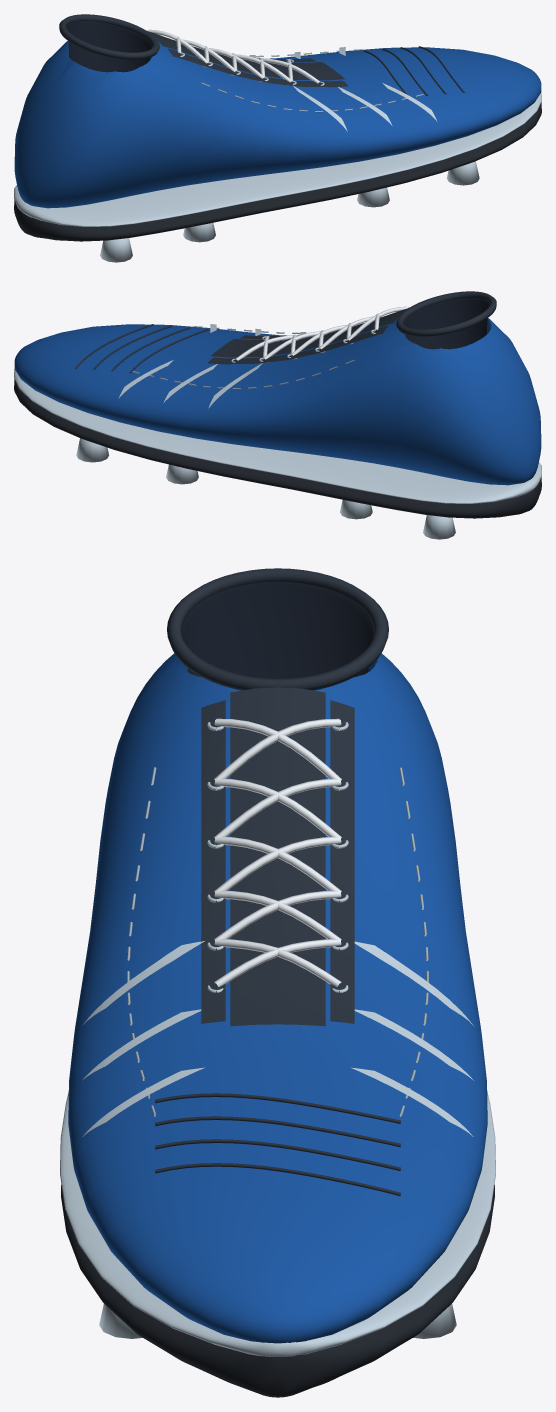
Rendered from boot-reference.glb.
The picture shows the model from 3 angles, top to bottom: view 1: azimuth 30°, elevation 25°; view 2: azimuth 150°, elevation 25°; view 3: azimuth 270°, elevation 25°; orthographic projection. The views are drawn at different scales.
Visible parts, largest first — view 1: HERO_boot_upper, TRIM_midsole, HERO_outsole, HERO_recessed_collar_lining, KIT_tongue, TRIM_collar_binding, KIT_eyestay, DETAIL_stud, DETAIL_stud.003, DETAIL_stud.001, DETAIL_stud.002; view 2: HERO_boot_upper, TRIM_midsole, HERO_outsole, HERO_recessed_collar_lining, KIT_tongue, TRIM_collar_binding, KIT_eyestay.001, DETAIL_stud.004, DETAIL_stud.007, DETAIL_stud.005, DETAIL_stud.006; view 3: HERO_boot_upper, KIT_tongue, HERO_recessed_collar_lining, HERO_outsole, TRIM_midsole, TRIM_collar_binding, KIT_eyestay.001, KIT_eyestay, DETAIL_flat_lace, DETAIL_flat_lace.001, DETAIL_flat_lace.002, DETAIL_flat_lace.003 (+12 smaller).
Boxes of the visible parts, x1,y1,x2,y2 form: HERO_boot_upper: [14, 40, 541, 208]; TRIM_midsole: [14, 92, 541, 226]; HERO_outsole: [14, 102, 541, 241]; HERO_recessed_collar_lining: [66, 21, 151, 72]; KIT_tongue: [147, 31, 344, 80]; TRIM_collar_binding: [59, 14, 159, 59]; KIT_eyestay: [167, 48, 348, 87]; DETAIL_stud: [100, 238, 132, 262]; DETAIL_stud.003: [446, 161, 479, 185]; DETAIL_stud.001: [183, 223, 215, 242]; DETAIL_stud.002: [357, 187, 389, 207]; HERO_boot_upper: [14, 317, 541, 485]; TRIM_midsole: [14, 369, 541, 503]; HERO_outsole: [14, 379, 541, 518]; HERO_recessed_collar_lining: [404, 298, 489, 349]; KIT_tongue: [211, 308, 408, 357]; TRIM_collar_binding: [396, 291, 496, 336]; KIT_eyestay.001: [207, 325, 387, 364]; DETAIL_stud.004: [423, 515, 455, 539]; DETAIL_stud.007: [76, 438, 109, 462]; DETAIL_stud.005: [340, 500, 372, 519]; DETAIL_stud.006: [166, 464, 198, 484]; HERO_boot_upper: [68, 653, 487, 1343]; KIT_tongue: [230, 687, 325, 1026]; HERO_recessed_collar_lining: [182, 581, 373, 678]; HERO_outsole: [61, 1185, 494, 1397]; TRIM_midsole: [60, 1092, 495, 1356]; TRIM_collar_binding: [167, 568, 388, 690]; KIT_eyestay.001: [330, 700, 354, 1023]; KIT_eyestay: [201, 700, 225, 1023]; DETAIL_flat_lace: [214, 718, 341, 780]; DETAIL_flat_lace.001: [214, 718, 341, 780]; DETAIL_flat_lace.002: [214, 778, 341, 838]; DETAIL_flat_lace.003: [214, 778, 341, 837].
Size of the model in its own units: 1.55 by 0.5874 by 0.5683.
